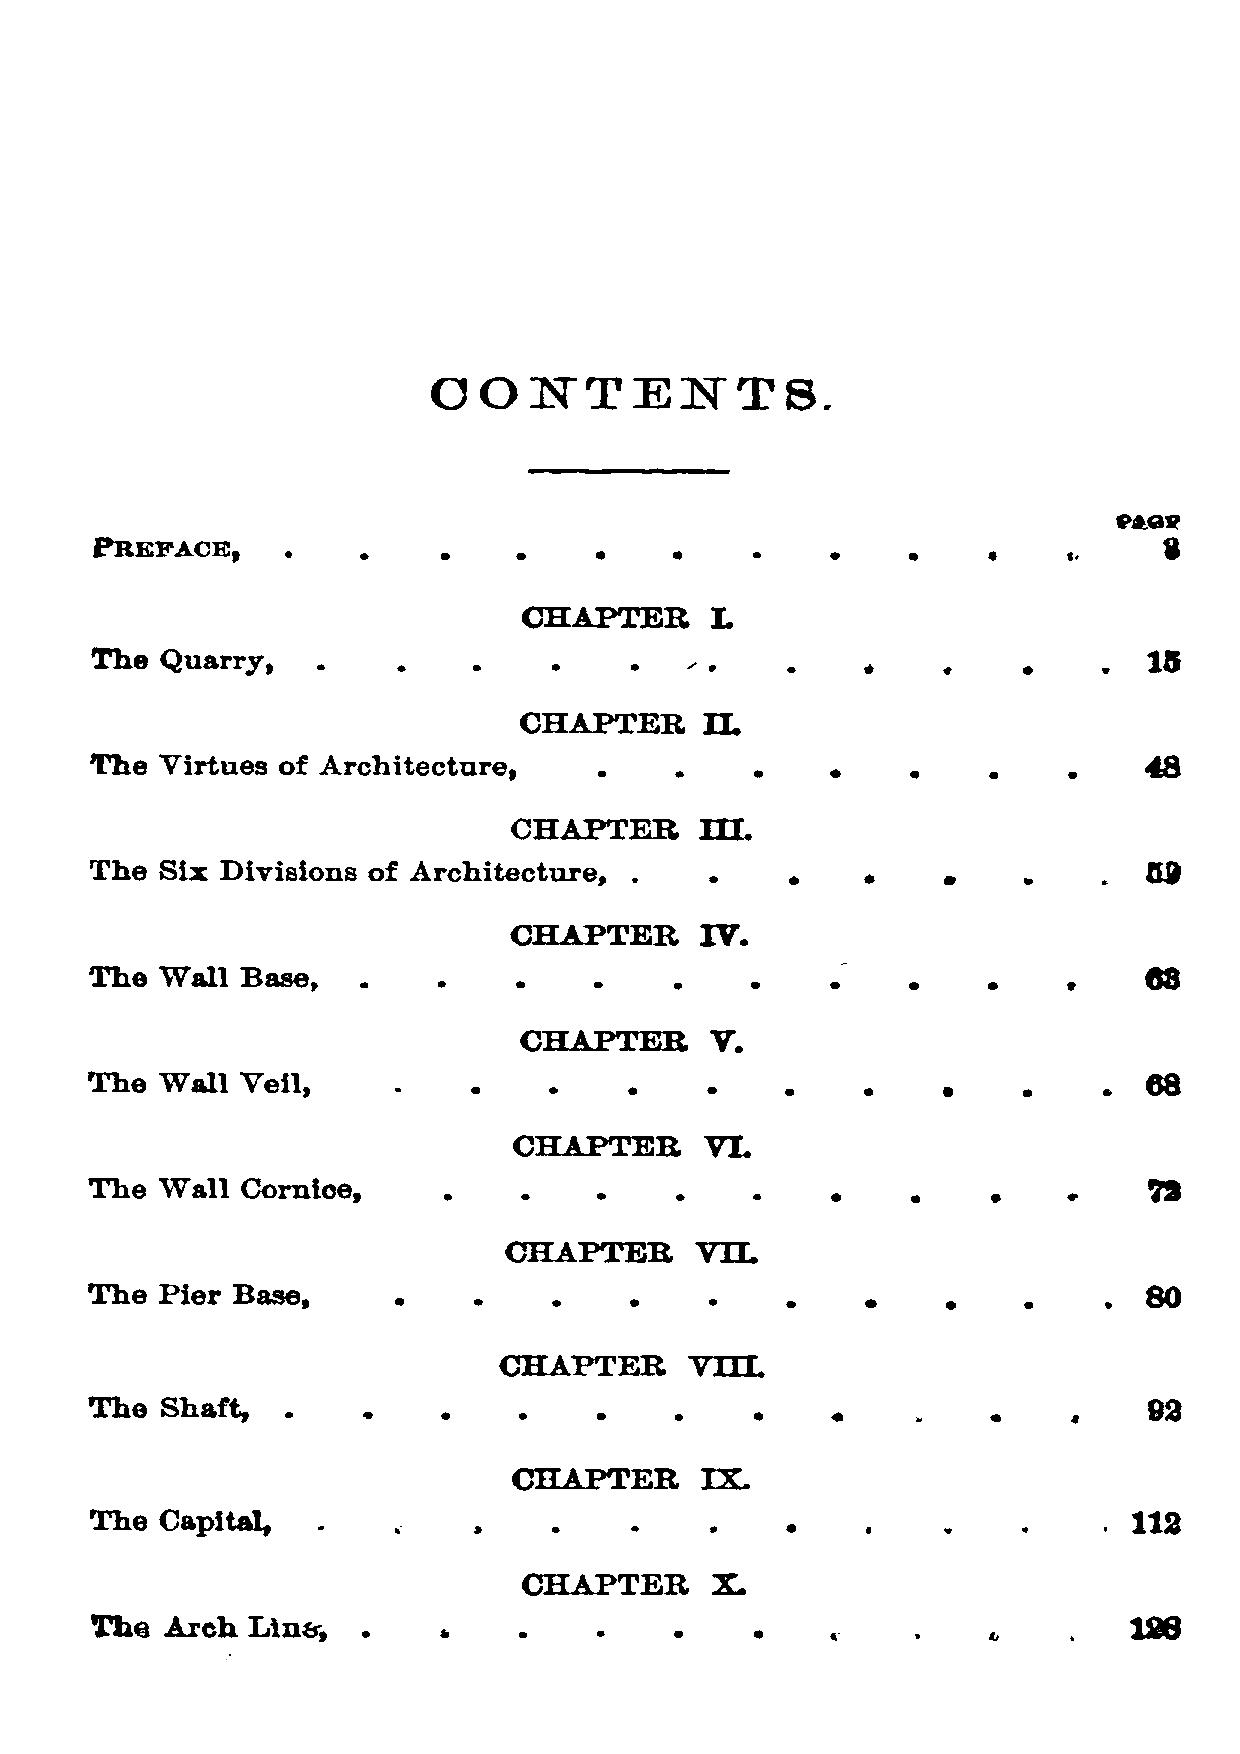TOC_chapter: (81, 852, 609, 888), (83, 747, 519, 786), (83, 1172, 364, 1206), (503, 1228, 753, 1267), (509, 1457, 757, 1495), (497, 1345, 768, 1378), (510, 1126, 752, 1164), (519, 1562, 747, 1600), (510, 811, 750, 845), (85, 1610, 330, 1644), (81, 1278, 314, 1312), (517, 705, 741, 739), (507, 917, 746, 949), (81, 961, 318, 993), (83, 1067, 315, 1099), (518, 1023, 739, 1055), (86, 641, 276, 678), (89, 1500, 268, 1535), (517, 604, 739, 631), (85, 1392, 254, 1425), (91, 533, 239, 561)
TOC_pagenumber: (1129, 1503, 1184, 1542), (1125, 1608, 1184, 1643), (1143, 951, 1184, 994), (1143, 742, 1182, 784), (1141, 637, 1184, 674), (1141, 1278, 1184, 1312), (1141, 1064, 1182, 1099), (1141, 1172, 1184, 1204), (1143, 855, 1184, 887), (1143, 1390, 1182, 1423), (1151, 530, 1180, 568)
chapter: (428, 368, 833, 416)
